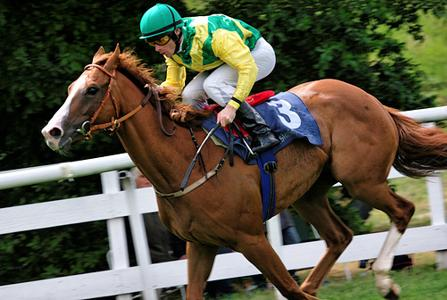person: (138, 4, 283, 156)
